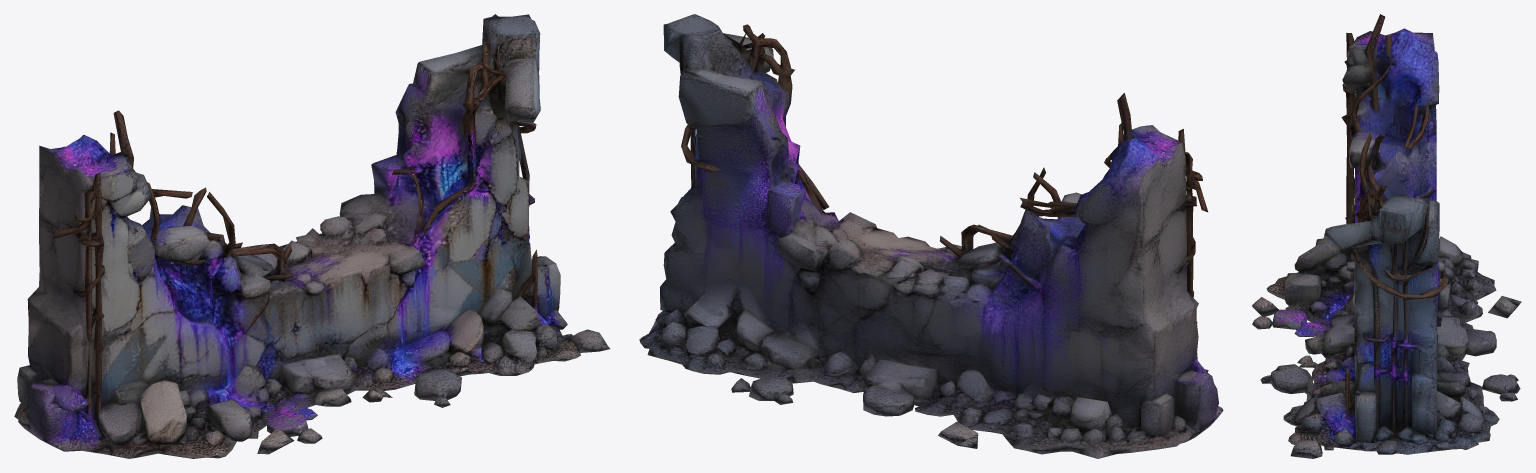
File: 跳跃_crumbling+ruined+wall+3d+model.glb
The picture shows the model from 3 angles, left to right: view 1: azimuth 30°, elevation 25°; view 2: azimuth 150°, elevation 25°; view 3: azimuth 270°, elevation 25°; orthographic projection. The views are drawn at different scales.
Parts seen in each view (by area): view 1: tripo_node_ff301327-af26-420c-b071-7ffad722dc9b; view 2: tripo_node_ff301327-af26-420c-b071-7ffad722dc9b; view 3: tripo_node_ff301327-af26-420c-b071-7ffad722dc9b.
Part boxes in pixels (x1,y1,x2,y2): tripo_node_ff301327-af26-420c-b071-7ffad722dc9b: [14, 14, 610, 458]; tripo_node_ff301327-af26-420c-b071-7ffad722dc9b: [639, 14, 1223, 458]; tripo_node_ff301327-af26-420c-b071-7ffad722dc9b: [1252, 14, 1521, 458].
Bounding box in the file's own units: 1 × 0.5566 × 0.5216.
1 material, 1 textured.
